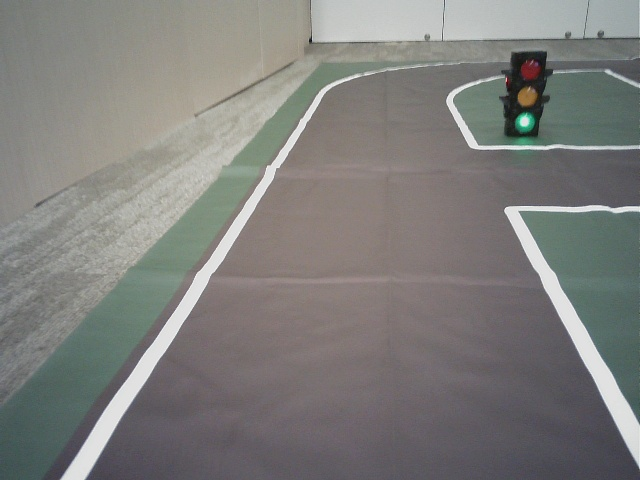green: (510, 55, 540, 137)
